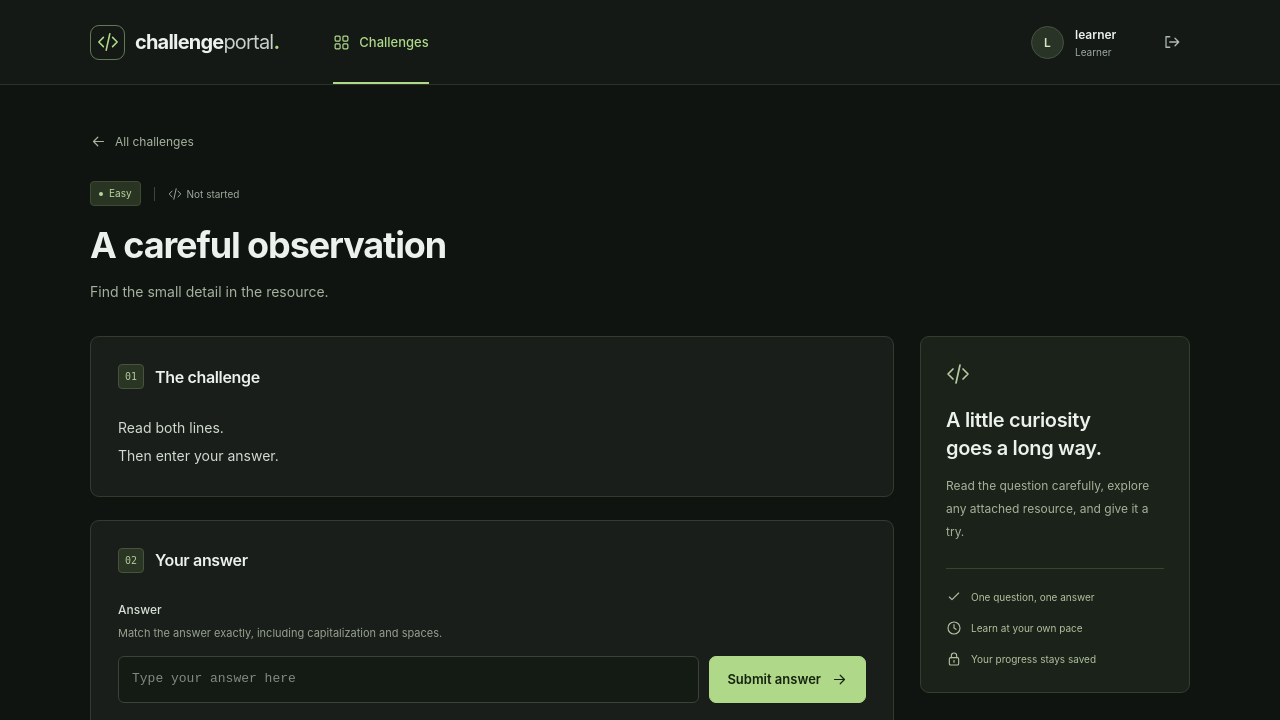
answer interaction › distinguishes service failure from a wrong answer and permits retry
Type "sample response" into the field labelled "Answer" at (409, 680), box [118,656,699,703]
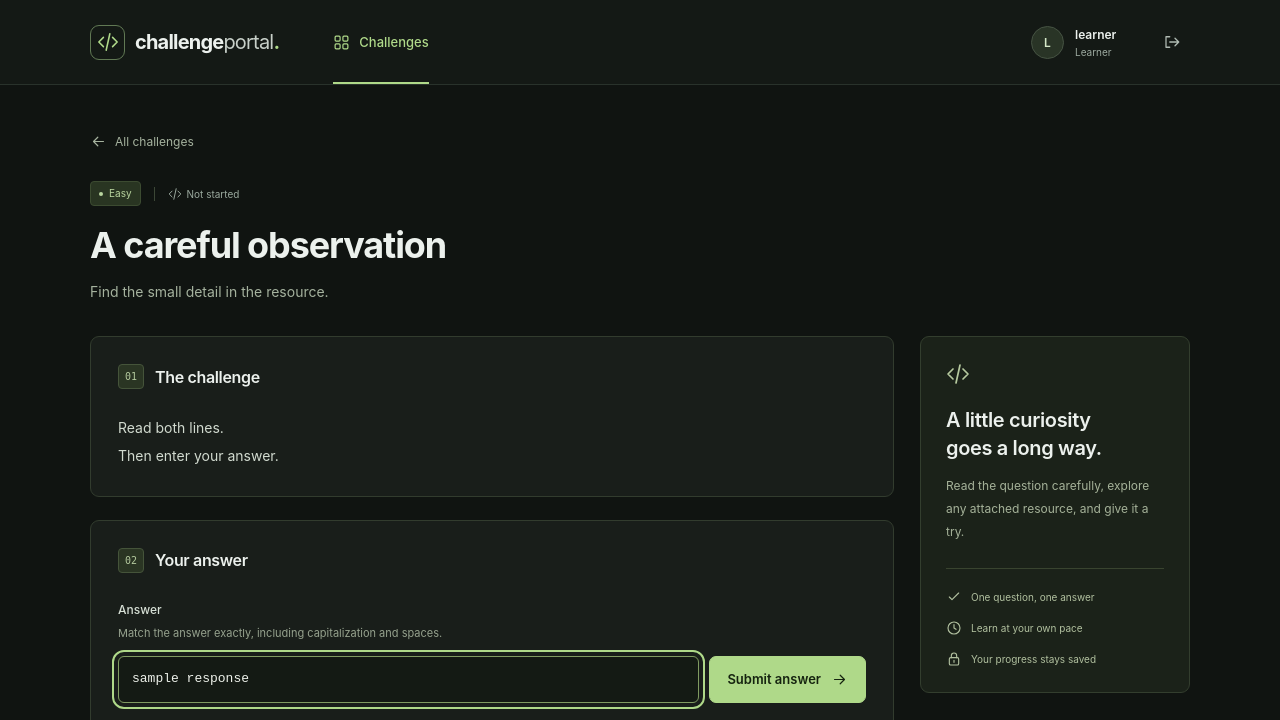
Click the button "Submit answer" at (788, 680), box [709,656,866,703]
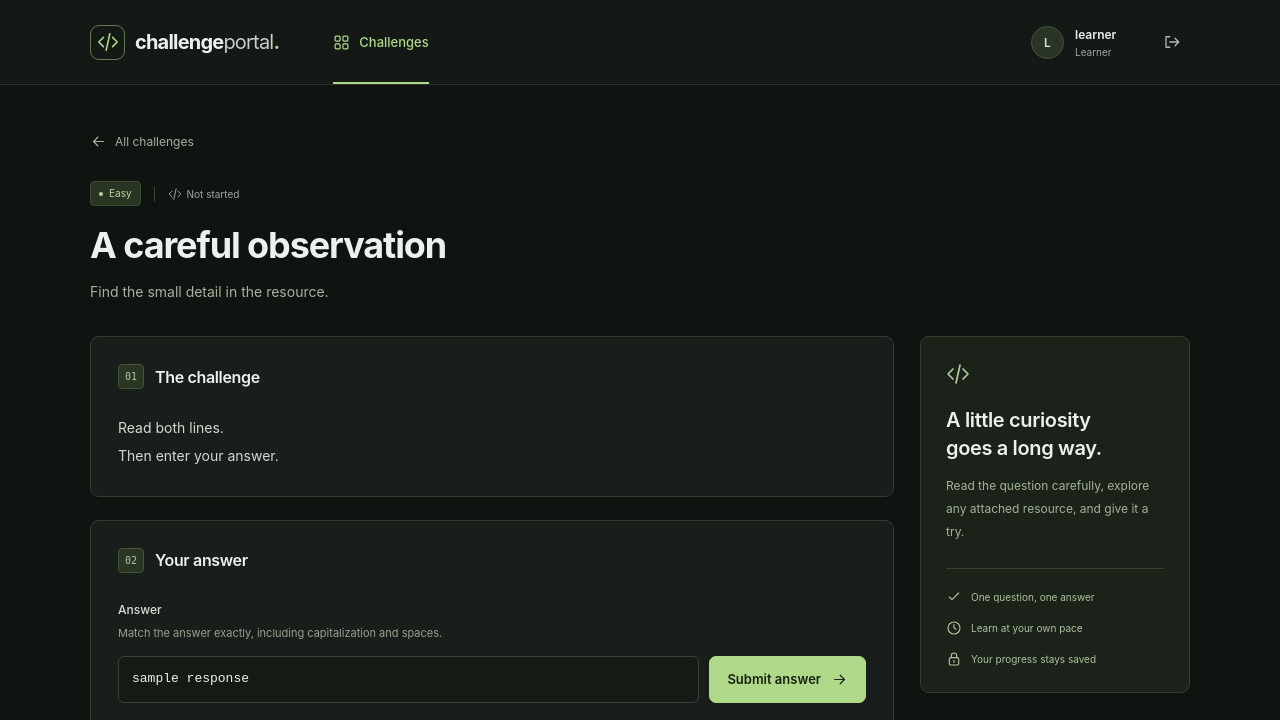
Click the button "Submit answer" at (788, 680), box [709,656,866,703]
(page scrolled)
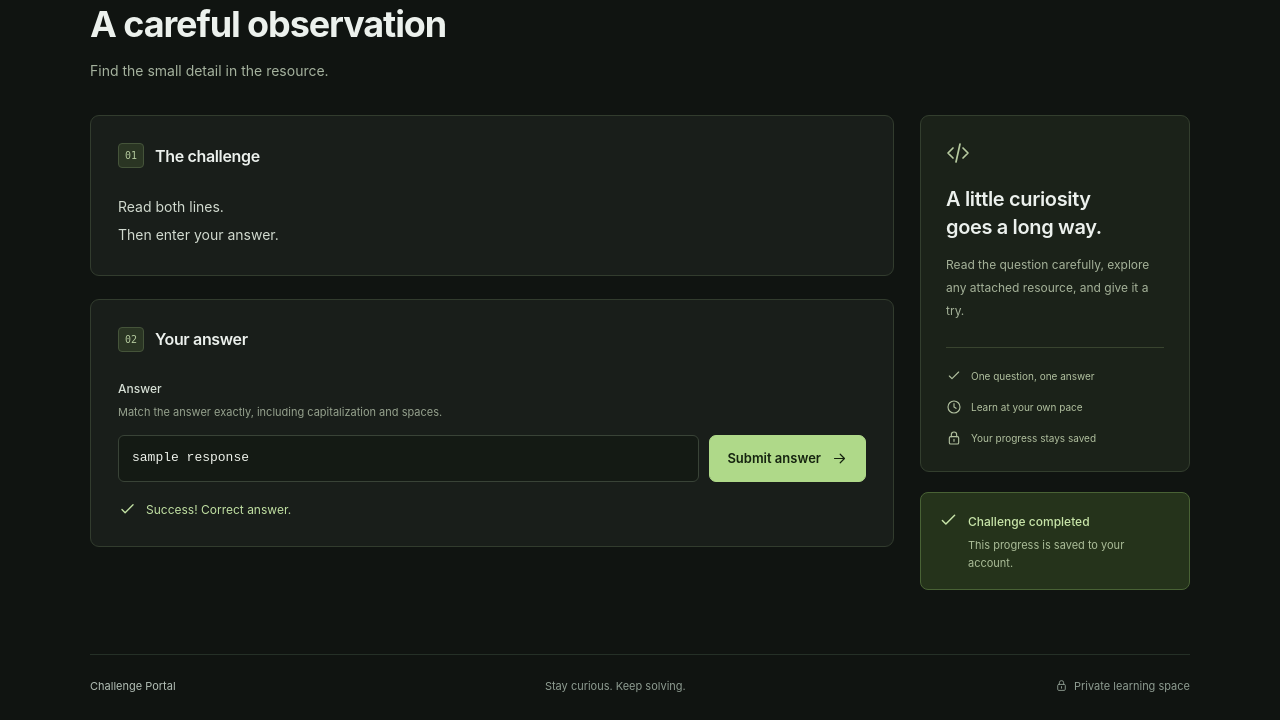
Result: the text "Success! Correct answer." is shown at [146,500,291,519]
Result: the text "Challenge completed" is shown at [968,514,1090,529]
